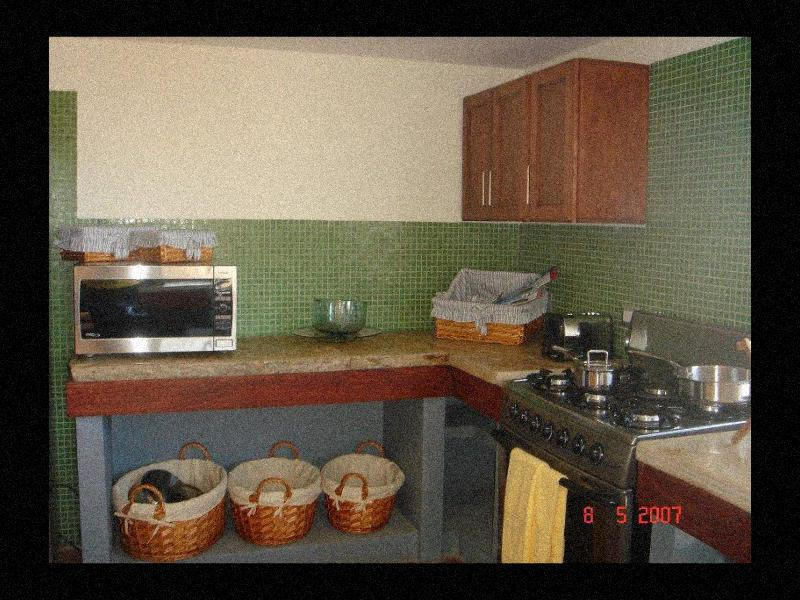Electrodomestico: (508, 368, 640, 555)
